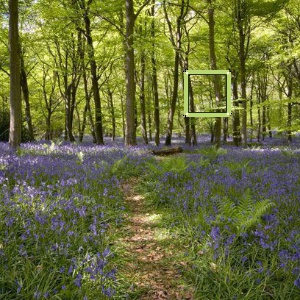square: (181, 68, 235, 119)
